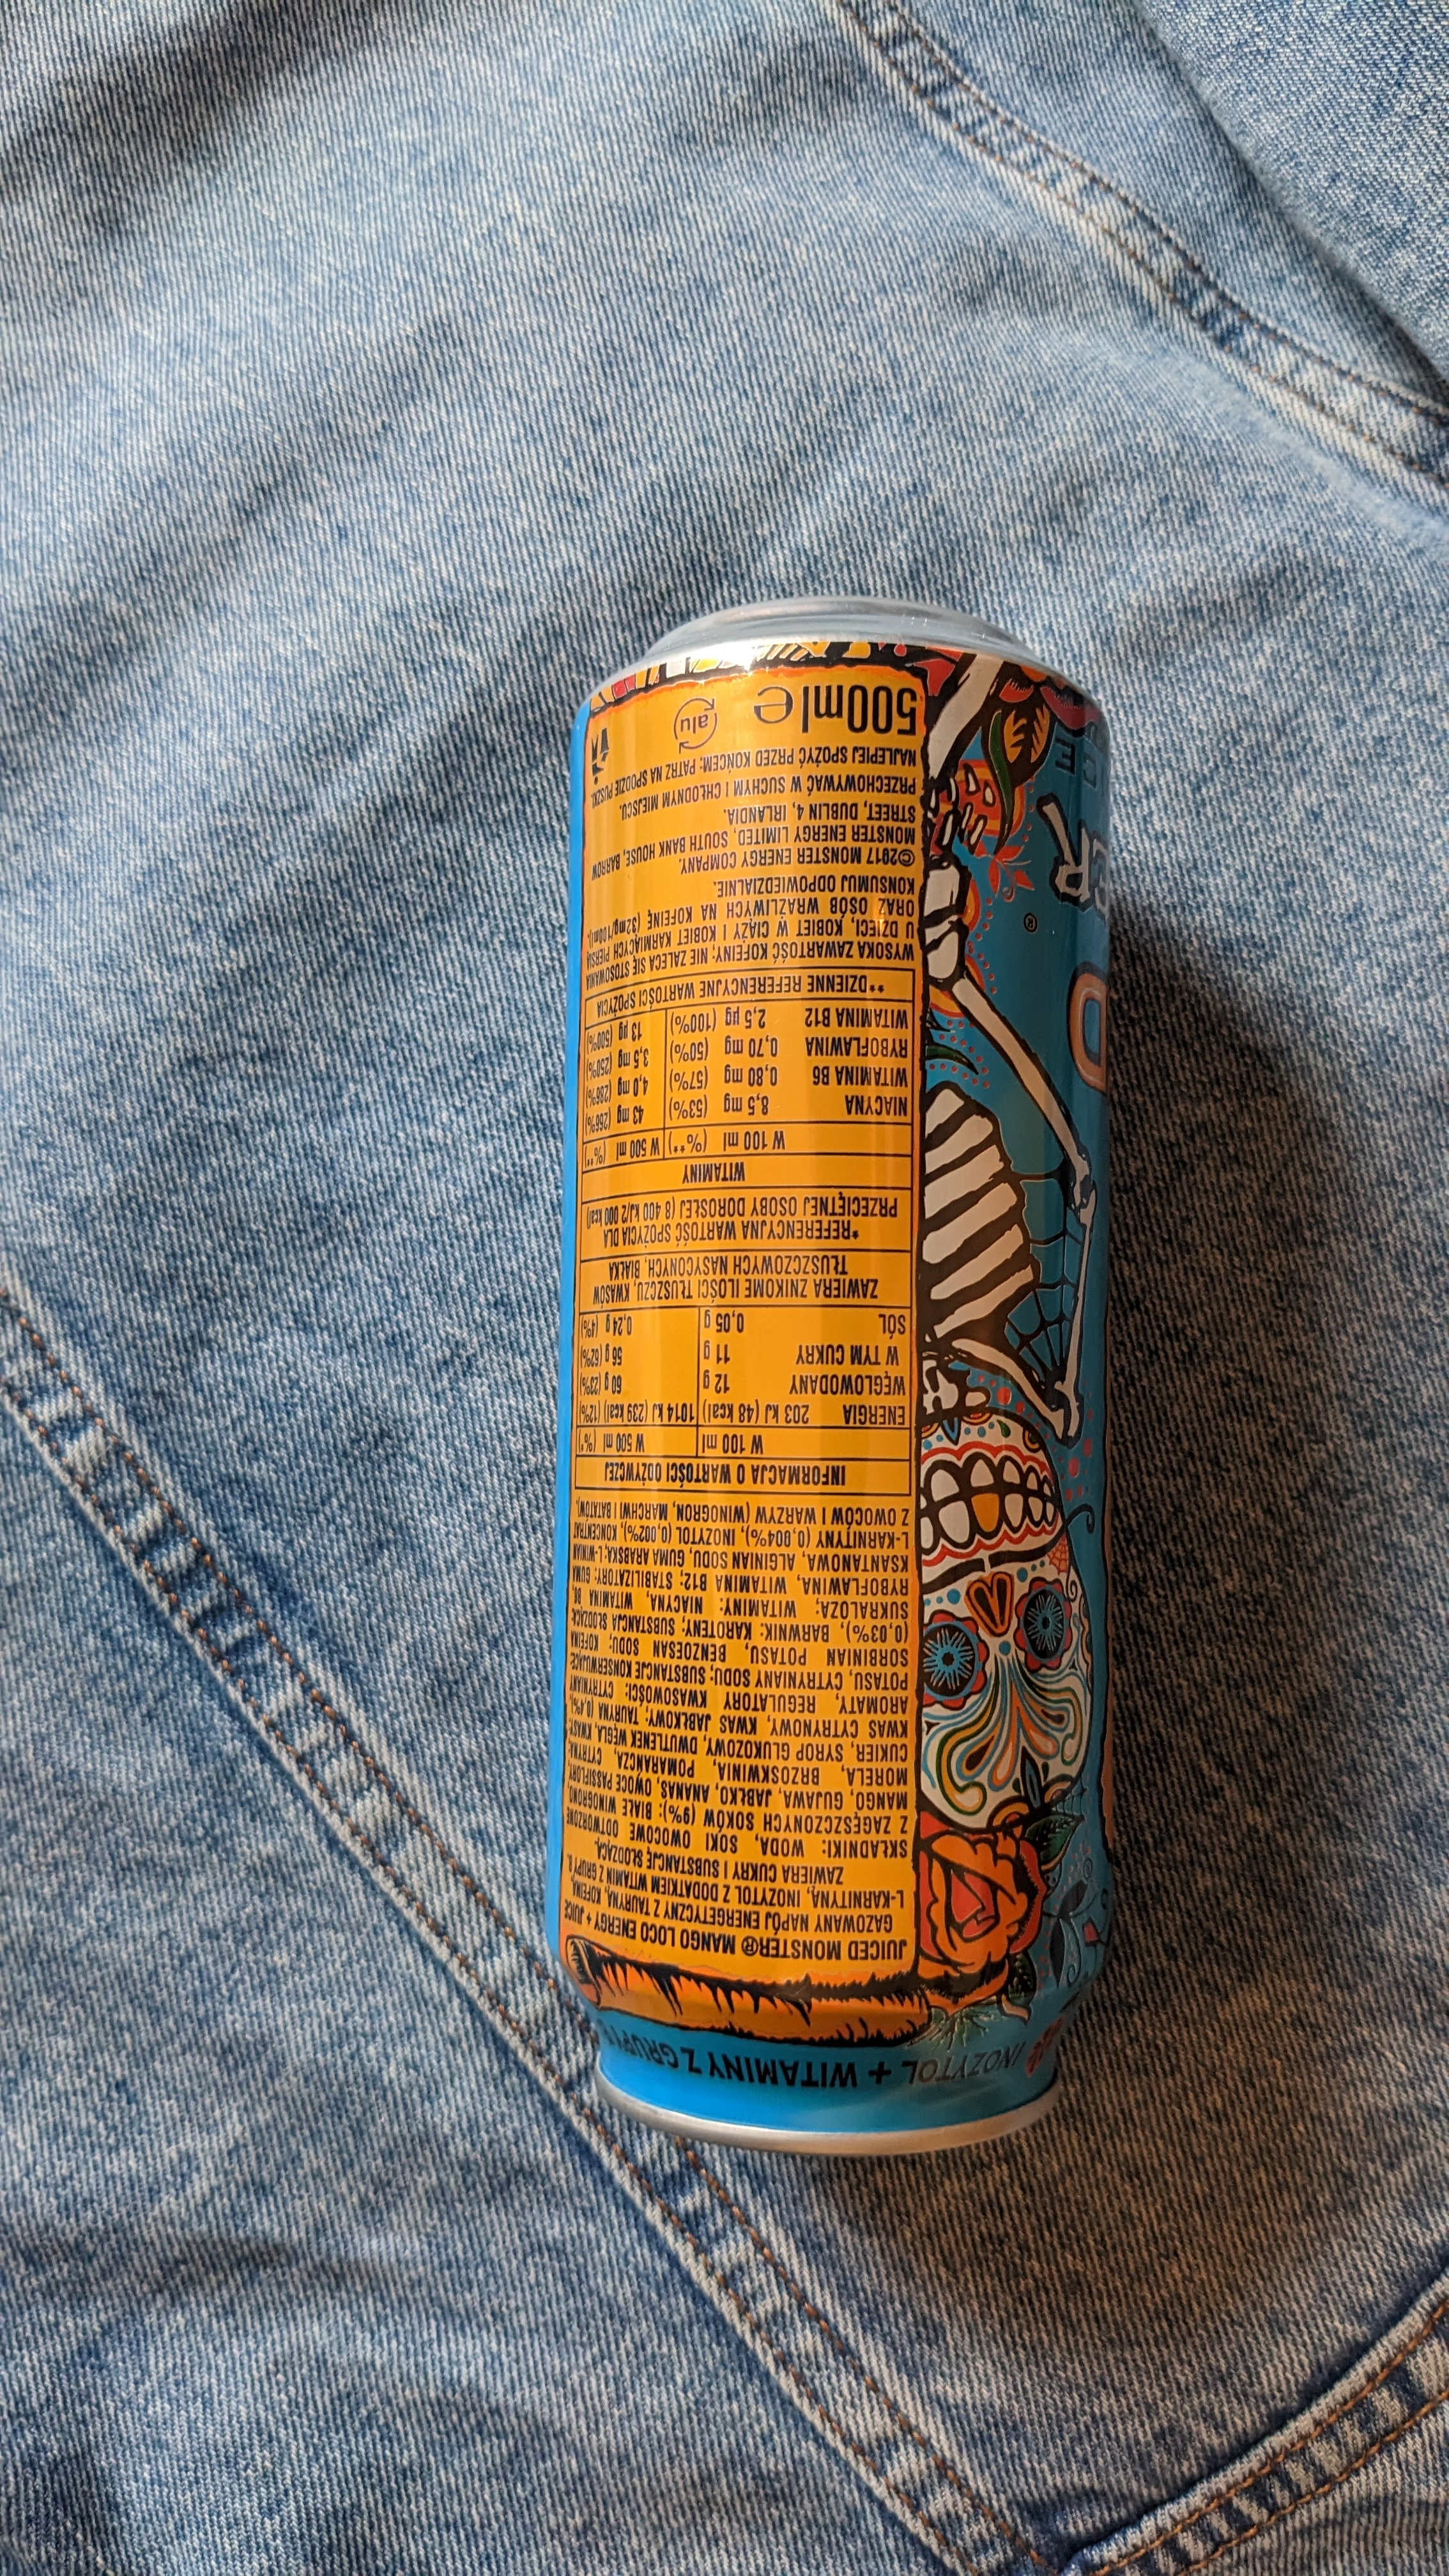monster: (522, 584, 1162, 2201)
